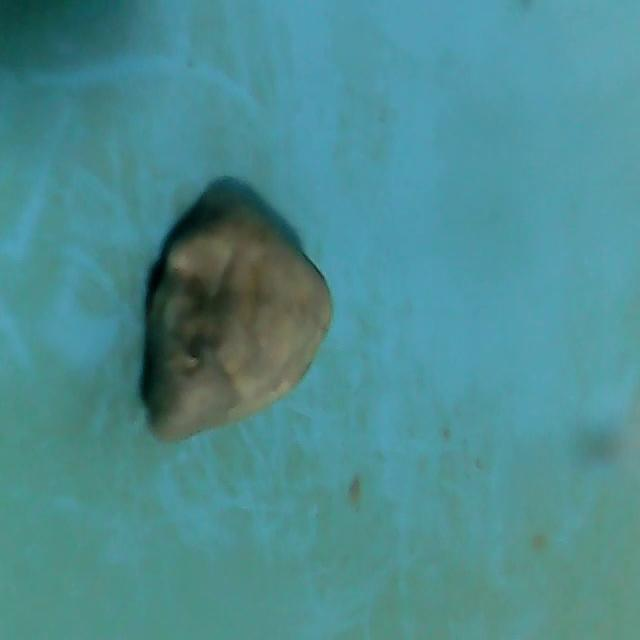rock: (134, 189, 342, 458)
